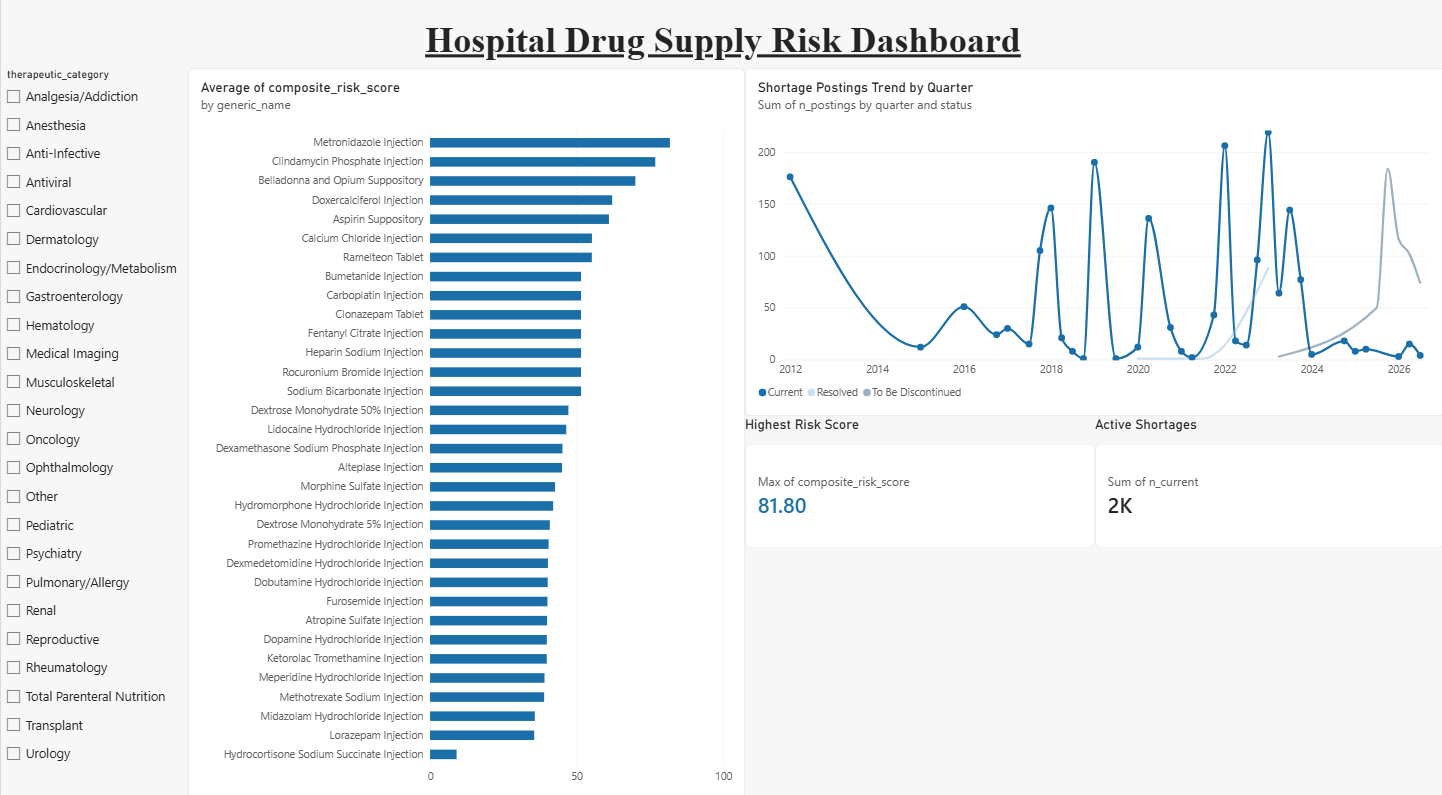

The dashboard page shown, as its layout file describes it:
{"tool":"powerbi","page":{"name":"Page 1","canvas":[1920,1080],"ordinal":0},"visuals":[{"type":"clusteredBarChart","fields":{"Category":["drug_risk_scores.generic_name"],"Y":["Avg(drug_risk_scores.composite_risk_score)"]},"box":[248.7,106.4,740.8,973.6],"z":0},{"type":"slicer","fields":{"Values":["category_risk_scores.therapeutic_category"]},"box":[0,106.4,248.7,973.6],"z":1},{"type":"cardVisual","title":"Highest Risk Score","fields":{"Data":["Max(drug_risk_scores.composite_risk_score)"]},"box":[989.6,569.3,465.5,175.6],"z":2},{"type":"cardVisual","title":"Active Shortages","fields":{"Data":["Sum(category_risk_scores.n_current)"]},"box":[1455.1,569.3,465.5,175.6],"z":3},{"type":"lineChart","title":"Shortage Postings Trend by Quarter","fields":{"Category":["shortage_trend_quarterly.quarter"],"Series":["shortage_trend_quarterly.status"],"Y":["Sum(shortage_trend_quarterly.n_postings)"]},"box":[989.6,106.4,931,462.9],"z":4},{"type":"textbox","box":[0,41.2,1920.6,65.2],"z":5}]}

Visuals, with their boxes in screenshot pixels (x1, y1, x2, y2), scaled from the page's 1920x1080 canvas onto the 1442x795 screenshot:
clusteredBarChart - drug_risk_scores.generic_name x Avg(drug_risk_scores.composite_risk_score): (187,78,743,794)
slicer - category_risk_scores.therapeutic_category: (0,78,187,794)
"Highest Risk Score" cardVisual: (743,419,1093,548)
"Active Shortages" cardVisual: (1093,419,1441,548)
"Shortage Postings Trend by Quarter" lineChart: (743,78,1441,419)
textbox: (0,30,1441,78)
